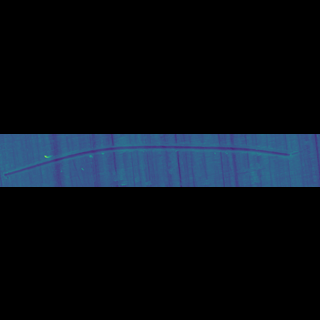Loch: (2, 157, 313, 163)
